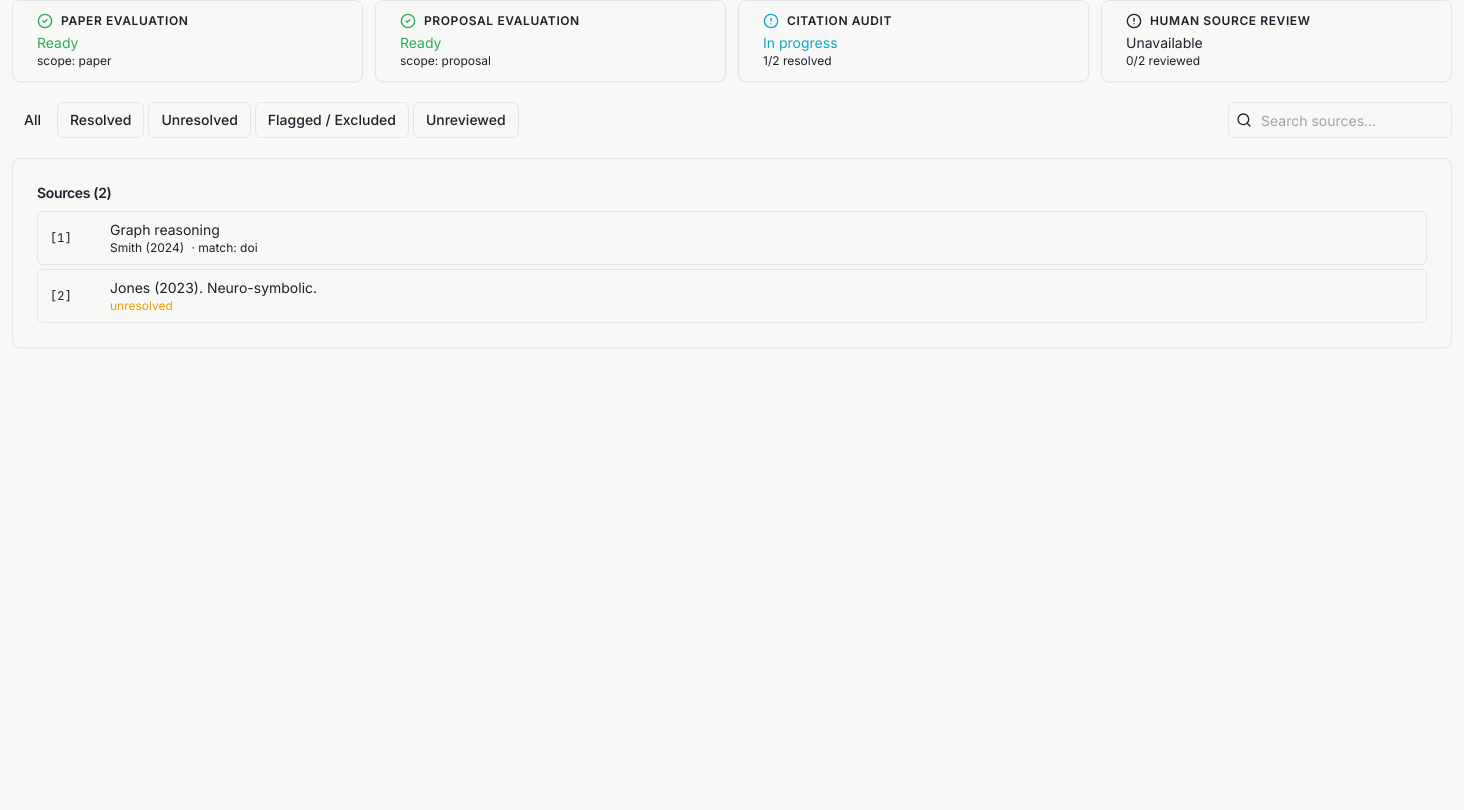
Test: TrustSourcesWorkspace › case 6: section-to-source links shown when available
Click the text "Graph reasoning": (165, 230) [110, 221, 220, 238]
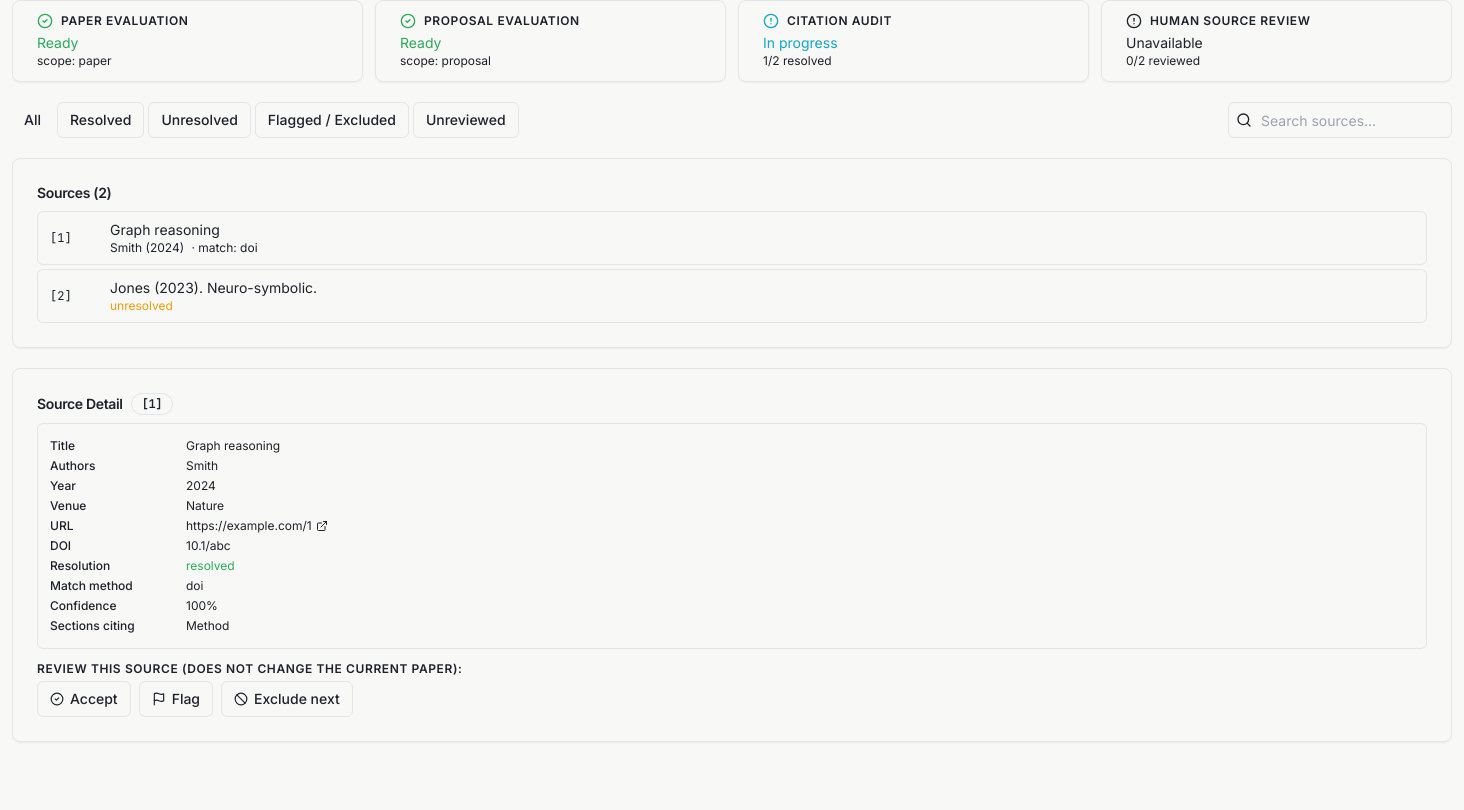
Check: the text "Method" is shown, box [186, 618, 229, 633]
